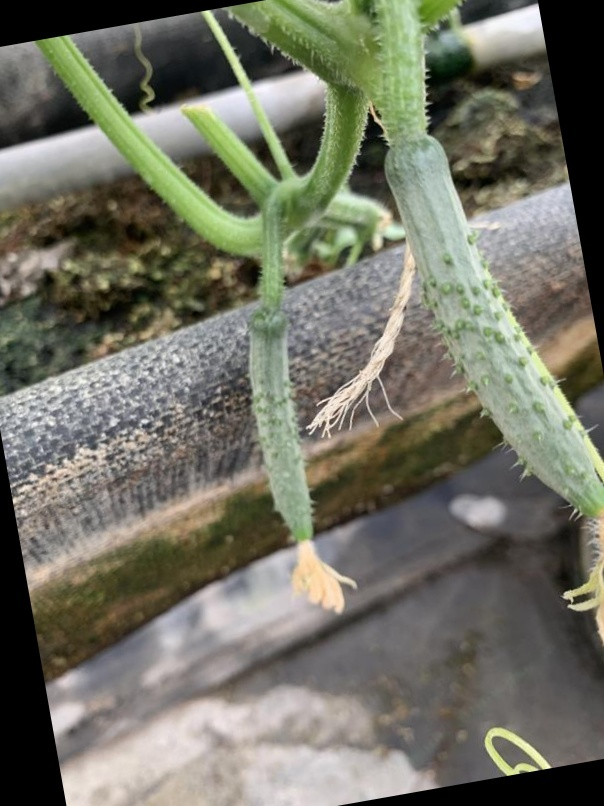bear: (235, 304, 348, 602)
growth: (391, 122, 602, 516)
